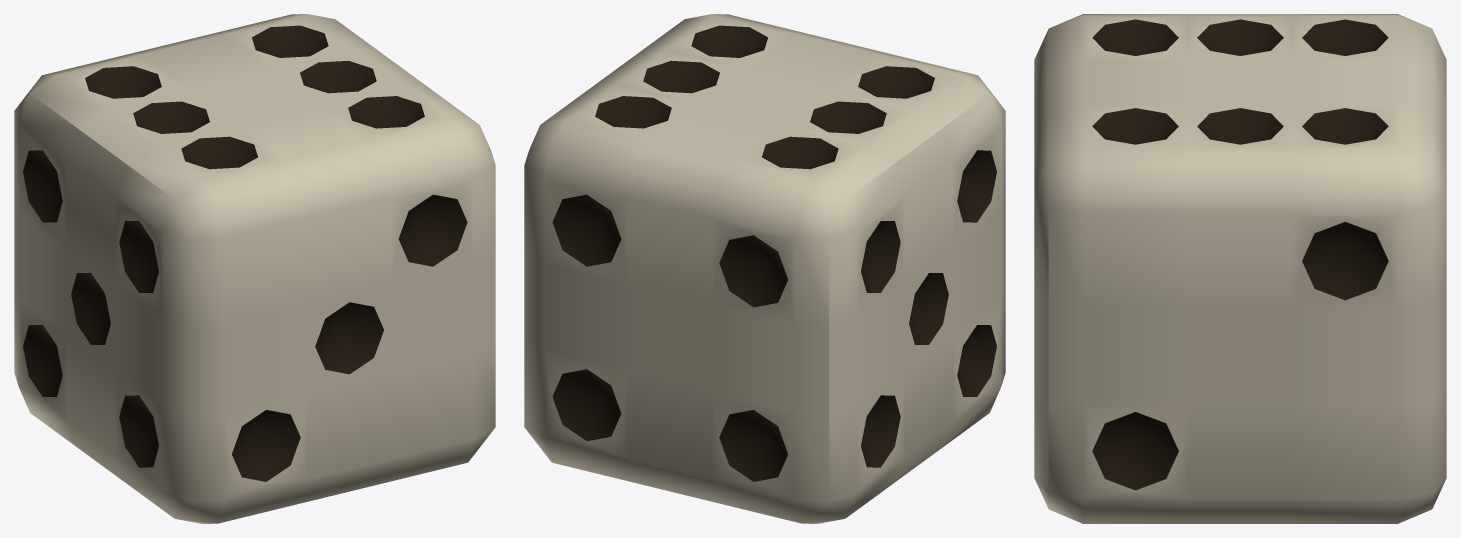
The model's file is dados.glb.
3 renders of one model, left to right at view 1: azimuth 30°, elevation 25°; view 2: azimuth 150°, elevation 25°; view 3: azimuth 270°, elevation 25°, orthographic. The views are drawn at different scales.
Parts seen in each view (by area): view 1: dado; view 2: dado; view 3: dado.
Part boxes in pixels (<box>): dado: <box>14,14,495,523</box>; dado: <box>524,14,1005,523</box>; dado: <box>1034,14,1446,523</box>.
Size of the model in its own units: 0.75 by 0.75 by 0.75.
